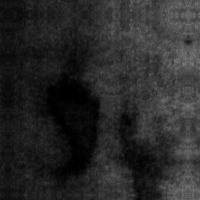patches: (38, 61, 102, 182), (115, 107, 166, 195)
